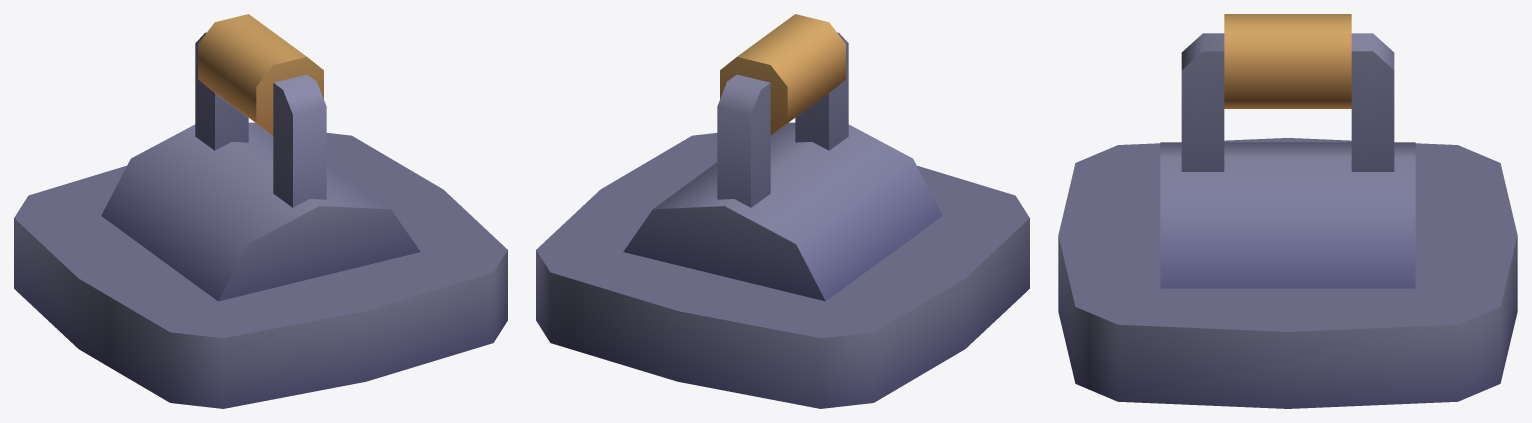
Rendered from lever-double.glb.
3 renders of one model, left to right at view 1: azimuth 30°, elevation 25°; view 2: azimuth 150°, elevation 25°; view 3: azimuth 270°, elevation 25°, orthographic. The views are drawn at different scales.
Visible parts, largest first — view 1: lever-double, handle; view 2: lever-double, handle; view 3: lever-double, handle.
Boxes of the visible parts, x1,y1,x2,y2 form: lever-double: (14, 122, 507, 408); handle: (195, 14, 326, 207); lever-double: (536, 122, 1029, 408); handle: (717, 14, 848, 207); lever-double: (1058, 138, 1517, 408); handle: (1181, 14, 1394, 171).
Bounding box in the file's own units: 0.54 × 0.375 × 0.54.
